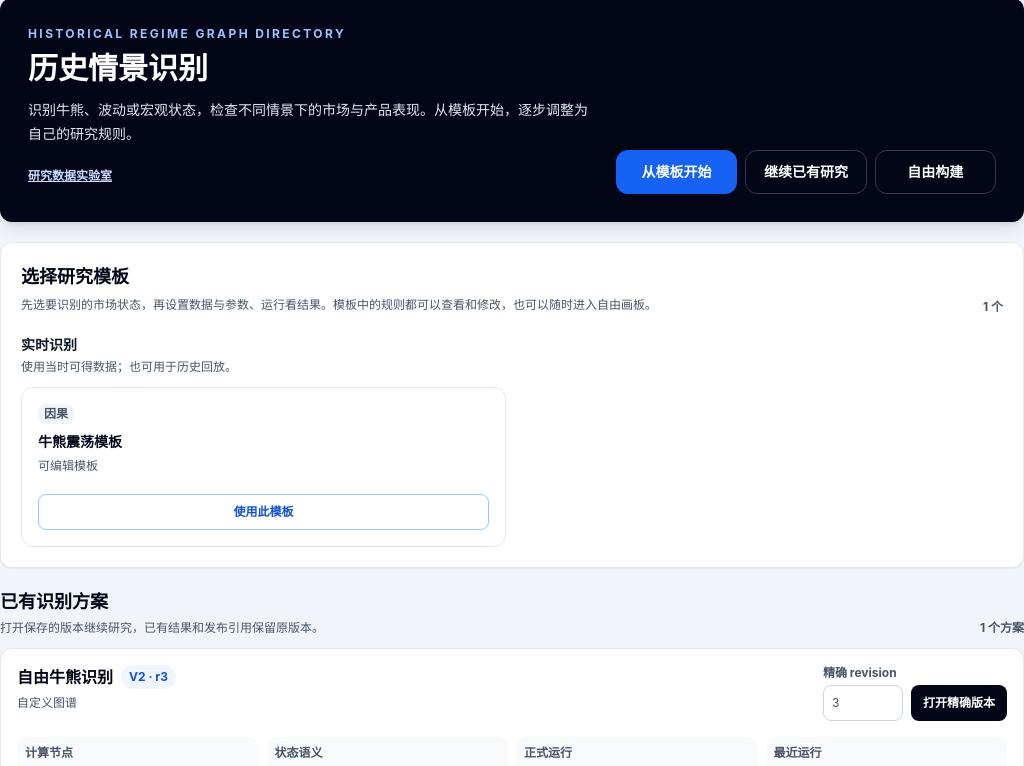
Test: HistoricalRegimeDirectory › 默认展示真实 V2 定义、模板、运行摘要与精确版本入口
Check: the heading "历史情景识别" is shown, box [28,50,208,86]
Check: the heading "自由牛熊识别" is shown, box [17,665,113,689]
Step 1. Replace the text in the number field named "自由牛熊识别 精确 revision" with "2" → point(863, 703), box [823,685,903,721]
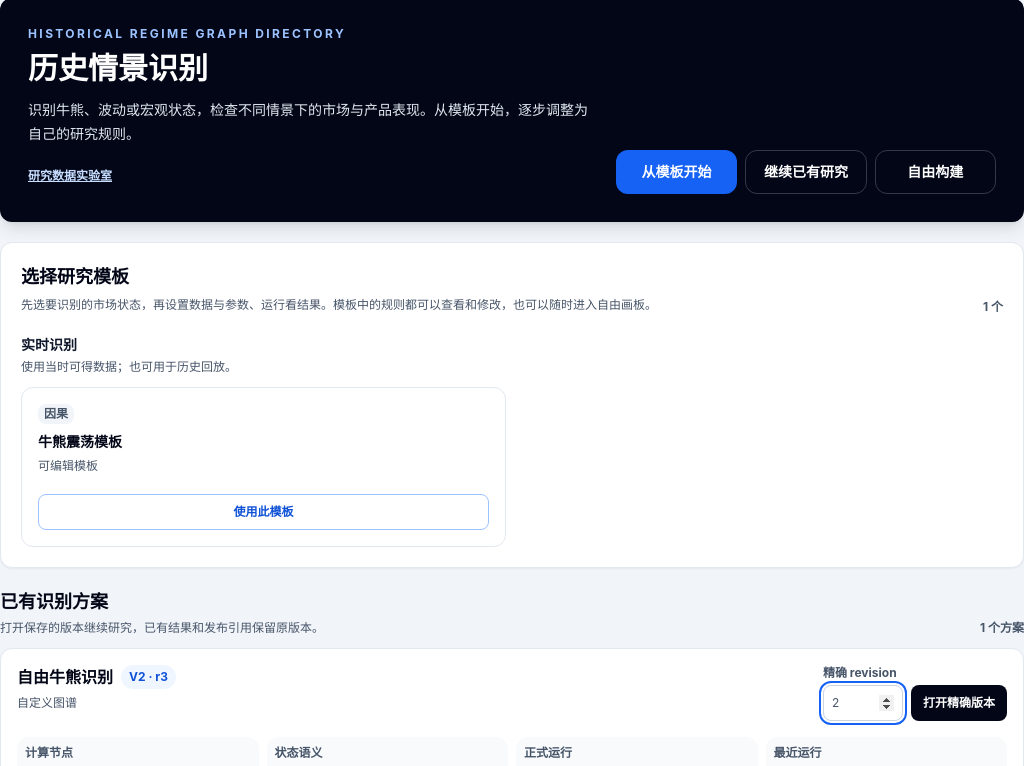
Step 2. Click the link with aria-label "使用模板：牛熊震荡模板" → point(264, 512), box [38,494,489,530]
(page scrolled)
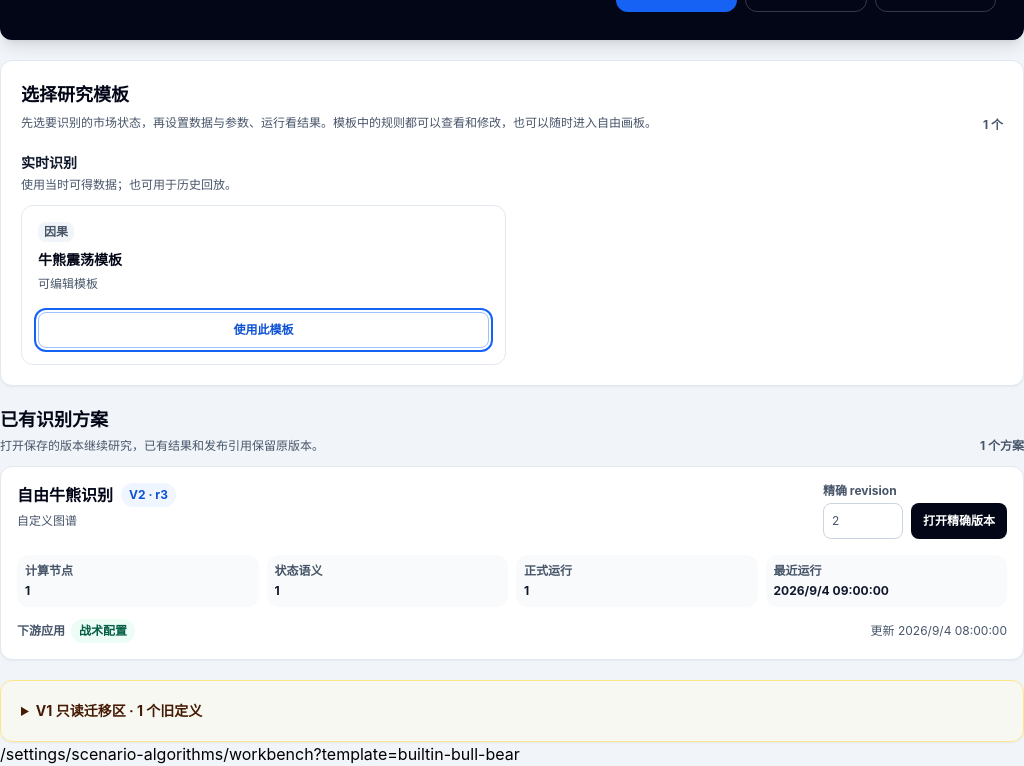
Check: the text with test id "location-probe" reads "/settings/scenario-algorithms/workbench?template=builtin-bull-bear", box [0,744,520,764]
